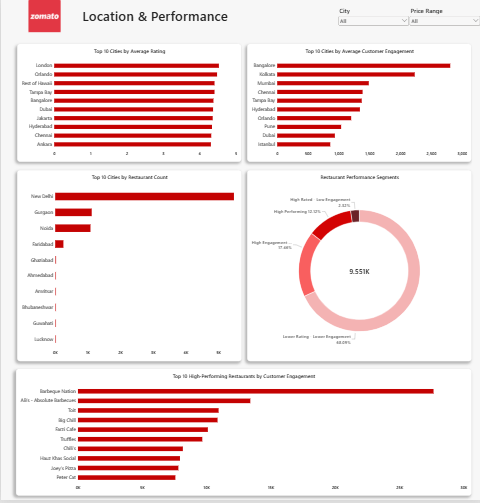

The dashboard page shown, as its layout file describes it:
{"tool":"powerbi","page":{"name":"Location & Performance","canvas":[1920,2000],"ordinal":2},"visuals":[{"type":"slicer","fields":{"Values":["zomato_analysis zomato_cleaned.City"]},"box":[1345.6,26.2,291.1,131.2],"z":0},{"type":"slicer","fields":{"Values":["zomato_analysis zomato_cleaned.Price_range"]},"box":[1629.5,26.2,291.1,131.2],"z":1000},{"type":"textbox","box":[325,25,970,80],"z":2000},{"type":"image","box":[26.2,2.4,298.2,128.8],"z":3000},{"type":"clusteredBarChart","title":"Top 10 Cities by Average Rating","fields":{"Category":["zomato_analysis vw_city_rating_analysis.city"],"Y":["Avg(zomato_analysis vw_city_rating_analysis.average_rating)"]},"box":[62.5,172.5,897.1,472.4],"z":4000},{"type":"clusteredBarChart","title":"Top 10 Cities by Average Customer Engagement","fields":{"Category":["zomato_analysis vw_city_engagement_analysis.City"],"Y":["Avg(zomato_analysis vw_city_engagement_analysis.average_votes)"]},"box":[985,172.5,897.1,472.4],"z":5000},{"type":"clusteredBarChart","title":"Top 10 Cities by Restaurant Count","fields":{"Category":["zomato_analysis vw_city_restaurant_analysis.city"],"Y":["Sum(zomato_analysis vw_city_restaurant_analysis.restaurant_count)"]},"box":[62.5,677.5,897.5,765],"z":6000},{"type":"donutChart","title":"Restaurant Performance Segments","fields":{"Category":["zomato_analysis vw_restaurant_performance.performance_segment"],"Y":["CountNonNull(zomato_analysis vw_restaurant_performance.Restaurant_ID)"]},"box":[985,677.5,897.5,765],"z":7000},{"type":"clusteredBarChart","title":"Top 10 High-Performing Restaurants by Customer Engagement","fields":{"Category":["zomato_analysis vw_restaurant_performance.Restaurant_Name"],"Y":["Sum(zomato_analysis vw_restaurant_performance.Votes)"]},"box":[60,1472.5,1822.5,507.5],"z":8000}]}

Visuals, with their boxes in screenshot pixels (x1, y1, x2, y2), scaled from the page's 1920x2000 canvas onto the 480x503 screenshot:
slicer - zomato_analysis zomato_cleaned.City: bbox=[336, 7, 409, 40]
slicer - zomato_analysis zomato_cleaned.Price_range: bbox=[407, 7, 479, 40]
textbox: bbox=[81, 6, 324, 26]
image: bbox=[7, 1, 81, 33]
"Top 10 Cities by Average Rating" clusteredBarChart: bbox=[16, 43, 240, 162]
"Top 10 Cities by Average Customer Engagement" clusteredBarChart: bbox=[246, 43, 471, 162]
"Top 10 Cities by Restaurant Count" clusteredBarChart: bbox=[16, 170, 240, 363]
"Restaurant Performance Segments" donutChart: bbox=[246, 170, 471, 363]
"Top 10 High-Performing Restaurants by Customer Engagement" clusteredBarChart: bbox=[15, 370, 471, 498]
